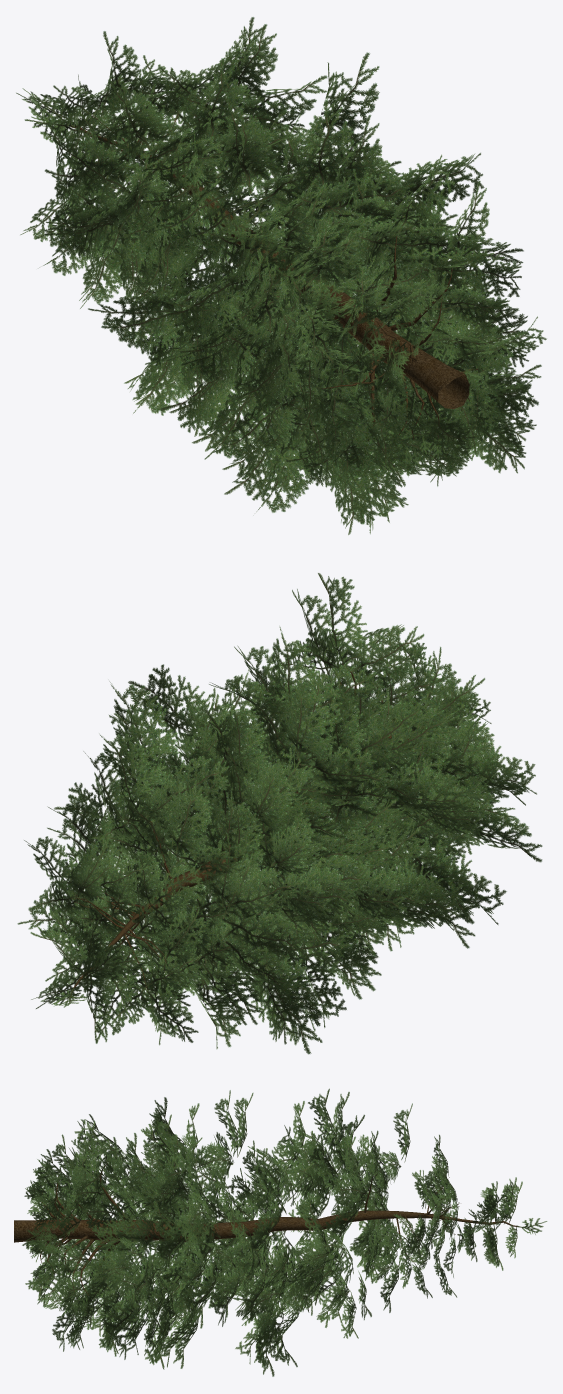
File: spruce_lod1.glb
3 views of the same model, one above another, from view 1: azimuth 30°, elevation 25°; view 2: azimuth 150°, elevation 25°; view 3: azimuth 270°, elevation 25° (orthographic). The views are drawn at different scales.
Parts seen in each view (by area): view 1: Christmas tree_LOD1; view 2: Christmas tree_LOD1; view 3: Christmas tree_LOD1.
Part boxes in pixels (bbox=[...]): Christmas tree_LOD1: bbox=[16, 17, 546, 534]; Christmas tree_LOD1: bbox=[17, 573, 542, 1054]; Christmas tree_LOD1: bbox=[14, 1088, 547, 1376].
Size of the model in its own units: 5.25 by 5.04 by 9.31.
2 materials, 2 textured.
